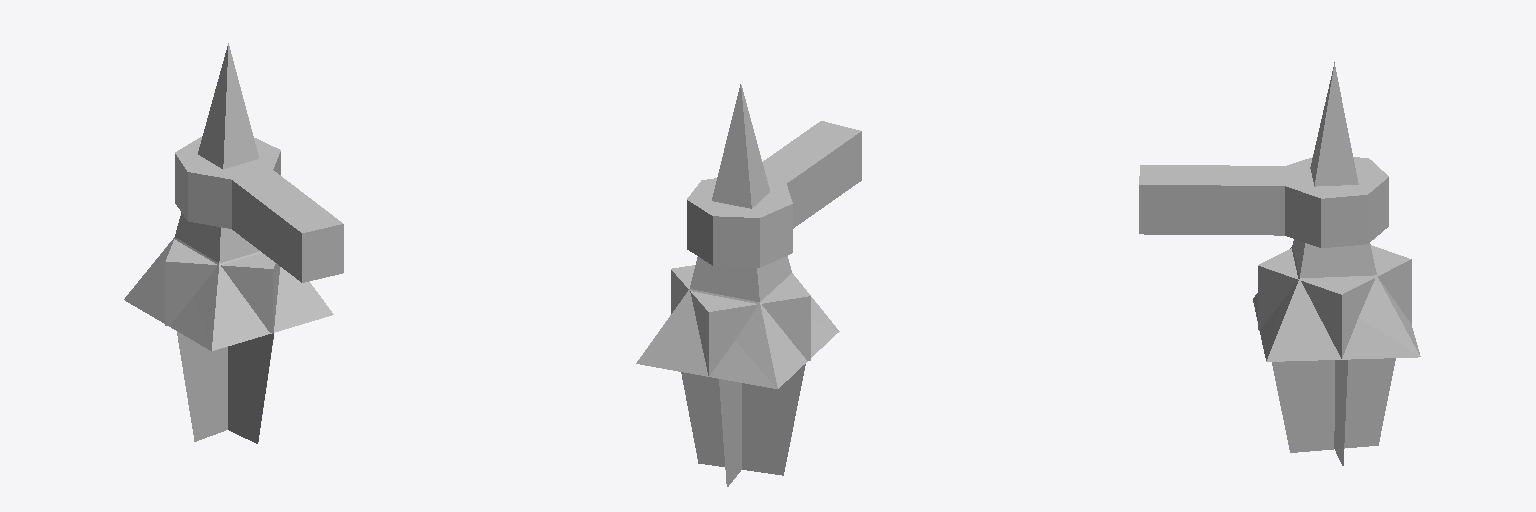
The model's file is antorcha_000006.obj.
The picture shows the model from 3 angles: view 1: azimuth 30°, elevation 25°; view 2: azimuth 150°, elevation 25°; view 3: azimuth 270°, elevation 25°; orthographic projection.
Visible parts, largest first — view 1: Cylinder; view 2: Cylinder; view 3: Cylinder.
Boxes of the visible parts, x1=… form: Cylinder: x1=124, y1=43, x2=343, y2=443; Cylinder: x1=636, y1=84, x2=861, y2=486; Cylinder: x1=1139, y1=62, x2=1420, y2=465.
Bounding box in the file's own units: 11.8 × 30.64 × 20.21.